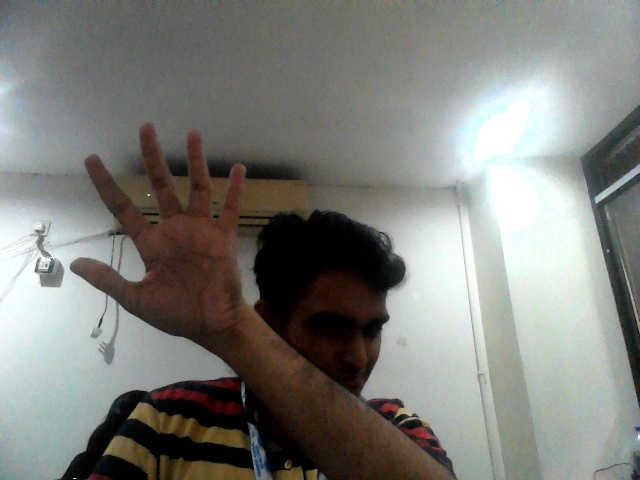palm: (70, 118, 257, 337)
